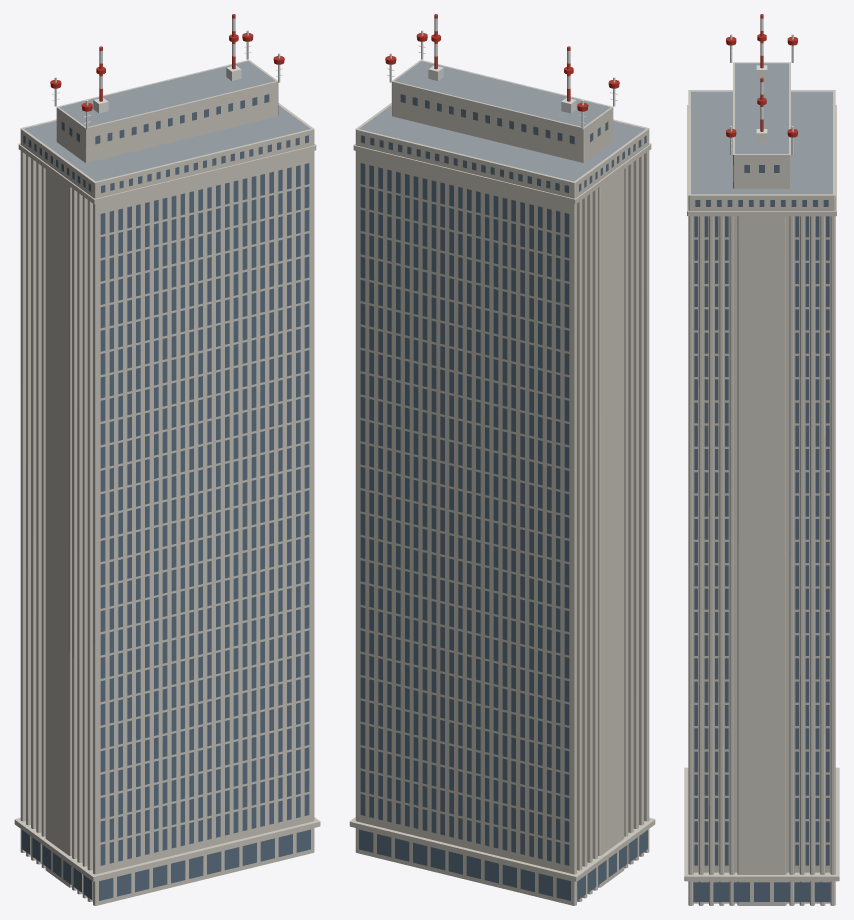
Rendered from tokyo-sunshine-60.detail.glb.
3 renders of one model, left to right at view 1: azimuth 30°, elevation 25°; view 2: azimuth 150°, elevation 25°; view 3: azimuth 270°, elevation 25°, orthographic.
Visible parts, largest first — view 1: Sunshine 60; view 2: Sunshine 60; view 3: Sunshine 60.
Part boxes in pixels (<box>): Sunshine 60: <box>14,14,320,905</box>; Sunshine 60: <box>349,14,655,905</box>; Sunshine 60: <box>684,14,839,905</box>.
Size of the model in its own units: 75.4 by 260 by 45.4.
